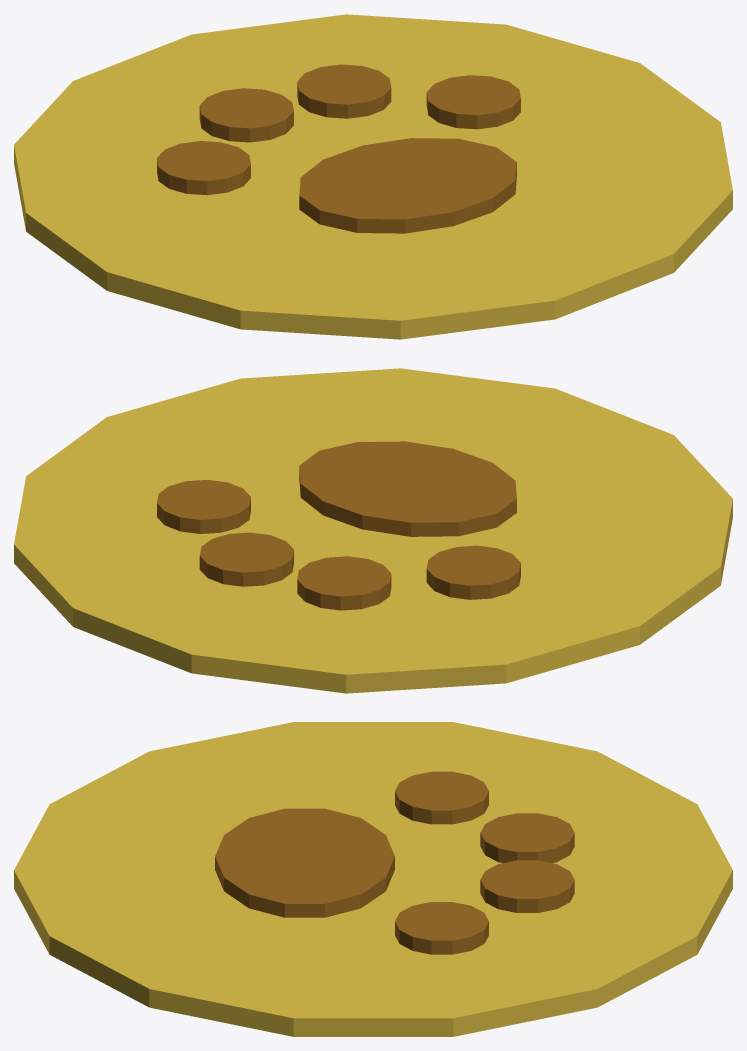
File: spawn_marker.glb
The picture shows the model from 3 angles, top to bottom: view 1: azimuth 30°, elevation 25°; view 2: azimuth 150°, elevation 25°; view 3: azimuth 270°, elevation 25°; orthographic projection.
Parts seen in each view (by area): view 1: spawn_marker; view 2: spawn_marker; view 3: spawn_marker.
Boxes of the visible parts, bbox=[...] form: spawn_marker: bbox=[14, 14, 732, 339]; spawn_marker: bbox=[14, 368, 732, 693]; spawn_marker: bbox=[14, 722, 732, 1036].
Size of the model in its own units: 0.8189 by 0.042 by 0.84.
